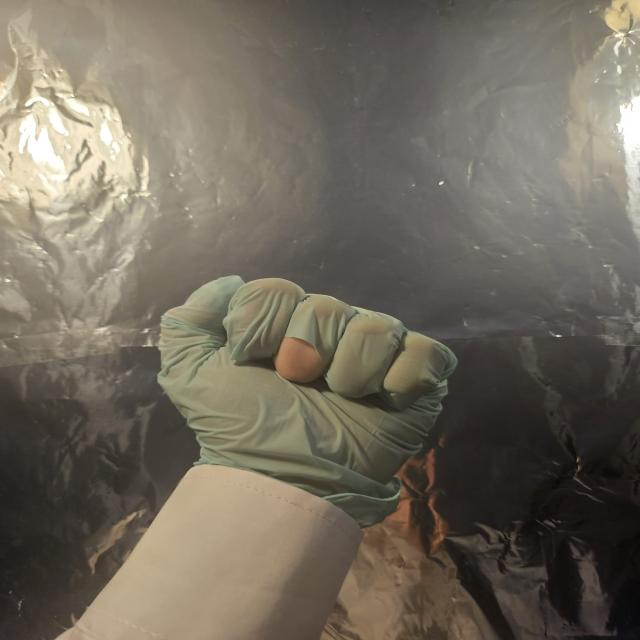gloves_damaged: (154, 272, 454, 531)
